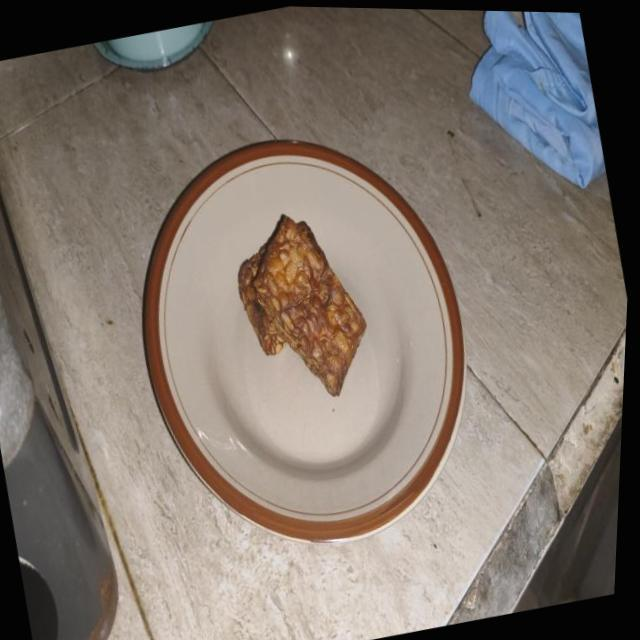tempe_goreng: (253, 216, 366, 396), (238, 238, 286, 355)
